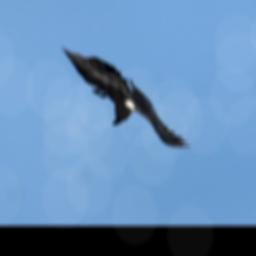Crow: (61, 25, 193, 169)
